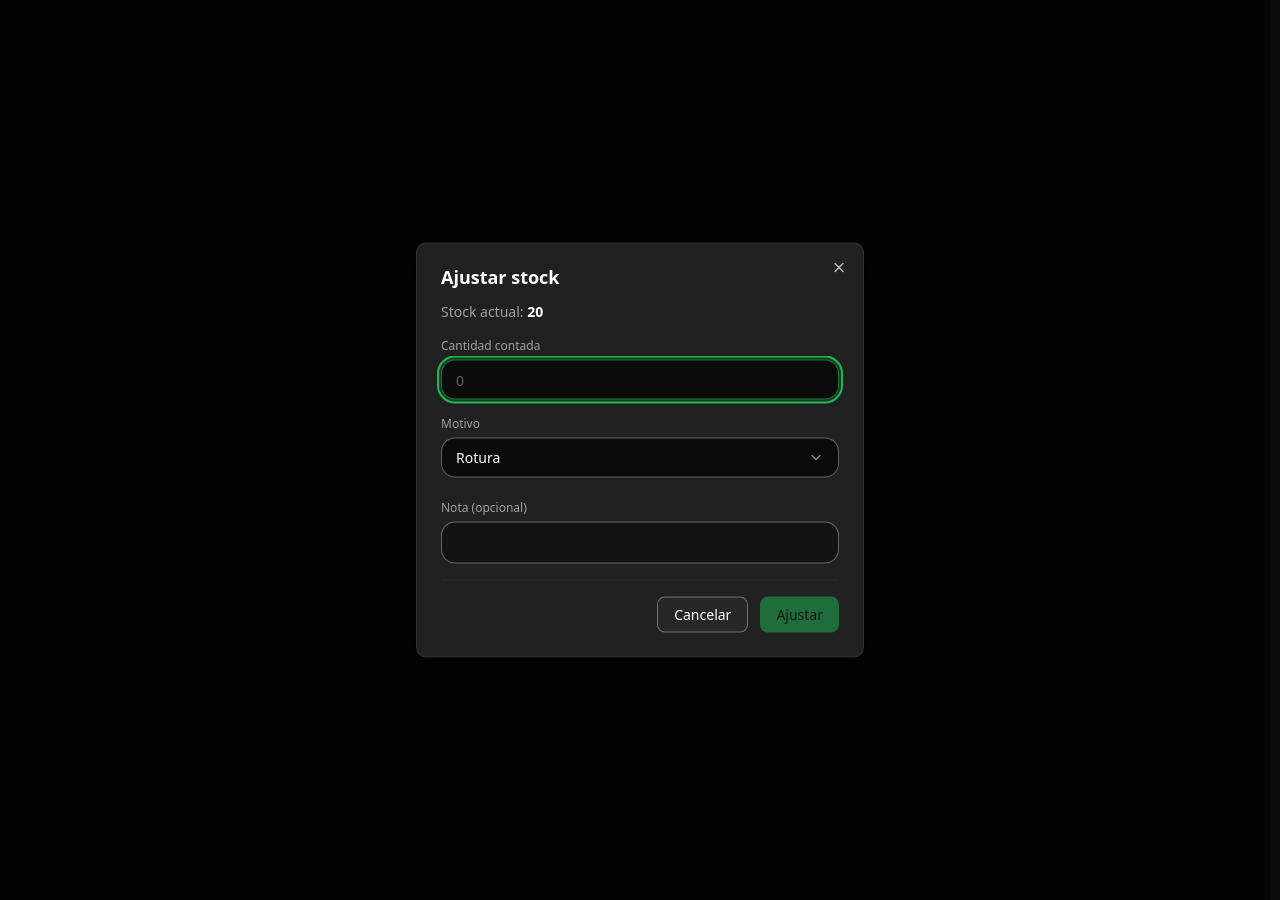
Test: AdjustDialog — computed difference › shows a positive difference and enables submit when counted is higher than current stock
Type "25" into the number field labelled "Cantidad contada".
click(640, 380); type("25")  # box [441, 360, 839, 400]
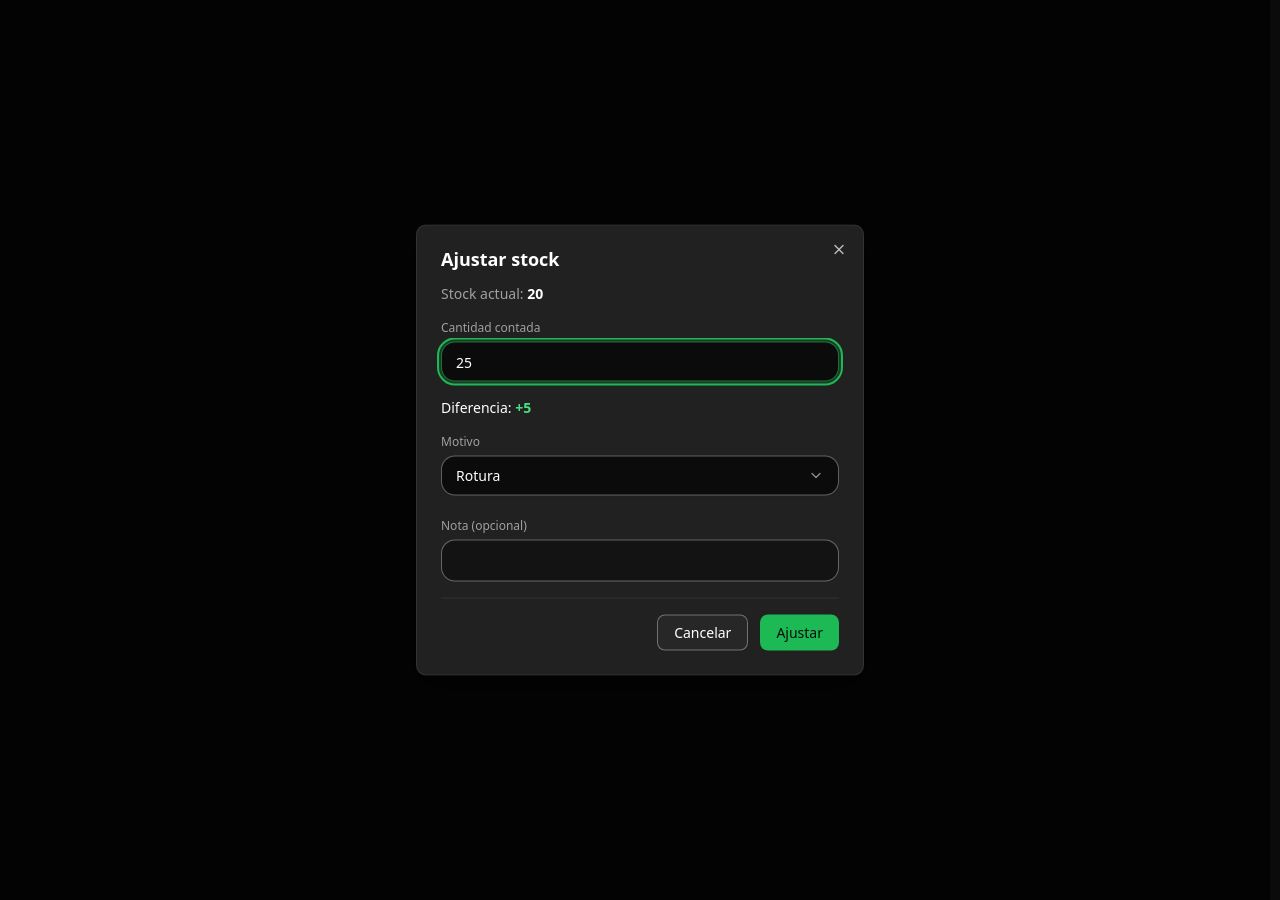
Result: the element with test id "adjust-difference" shows "+5" at [441, 398, 531, 416]
Result: the button "Ajustar" is enabled at [760, 614, 839, 650]
